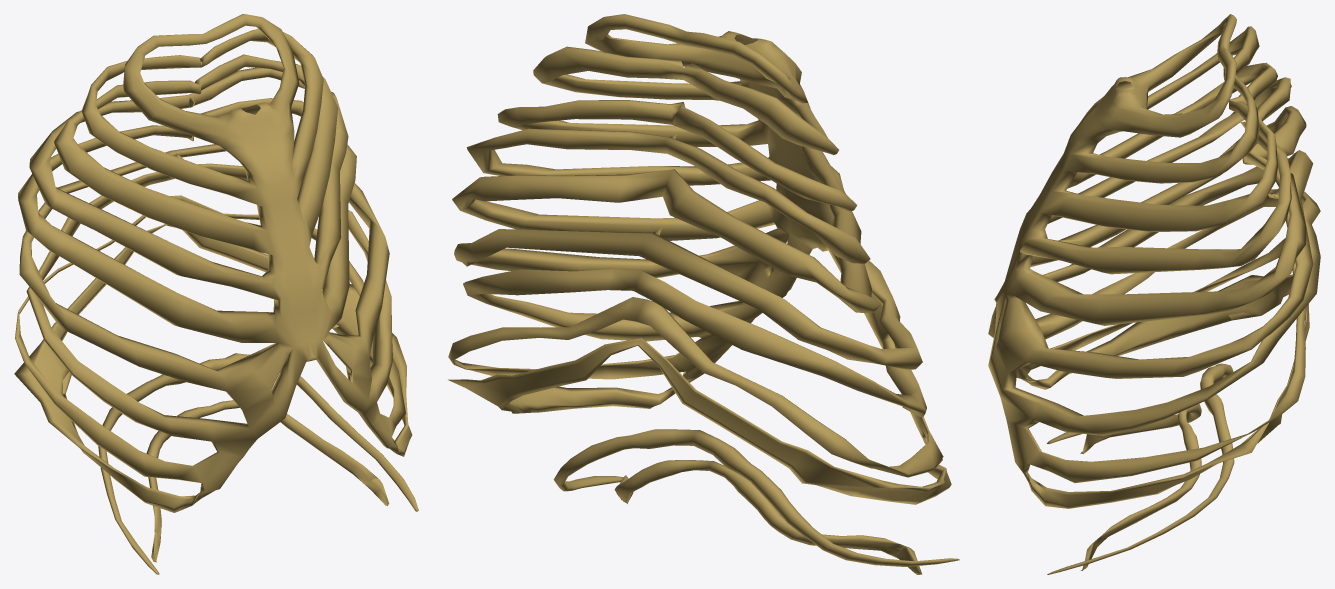
The model's file is Rib.obj.
3 views of the same model, side by side, from view 1: azimuth 30°, elevation 25°; view 2: azimuth 150°, elevation 25°; view 3: azimuth 270°, elevation 25° (orthographic). The views are drawn at different scales.
Visible parts, largest first — view 1: Rib_Cage_Cube.003; view 2: Rib_Cage_Cube.003; view 3: Rib_Cage_Cube.003.
Boxes of the visible parts, left/top/right/bottom form: Rib_Cage_Cube.003: left=14, top=14, right=418, bottom=574; Rib_Cage_Cube.003: left=448, top=14, right=959, bottom=574; Rib_Cage_Cube.003: left=988, top=14, right=1320, bottom=574.
Bounding box in the file's own units: 2.51 × 3.12 × 1.98.
